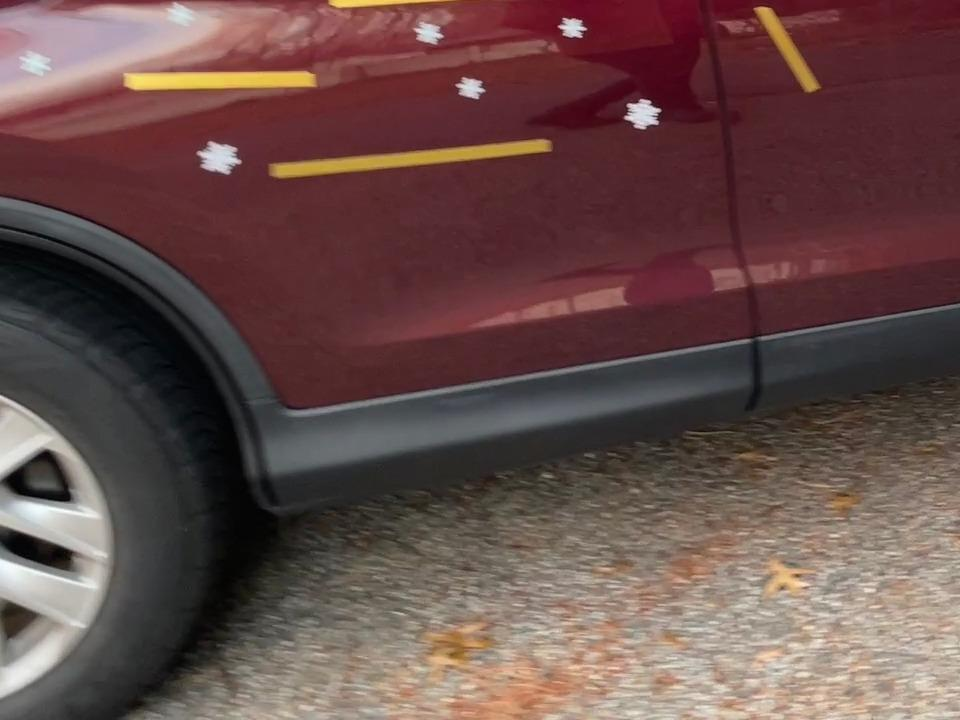dent: (196, 136, 248, 179), (619, 93, 668, 132), (13, 45, 61, 82), (161, 0, 202, 33), (408, 18, 447, 52), (558, 13, 593, 48), (454, 72, 490, 106), (886, 0, 931, 2)
scratch: (266, 134, 559, 189), (121, 59, 323, 102), (746, 0, 832, 100), (326, 0, 562, 19)
